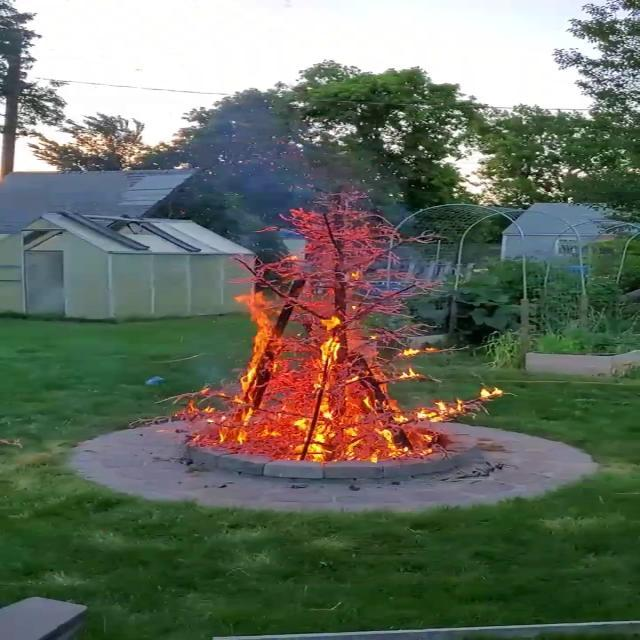Fire: (198, 202, 464, 462)
Smoke: (178, 92, 334, 212)
